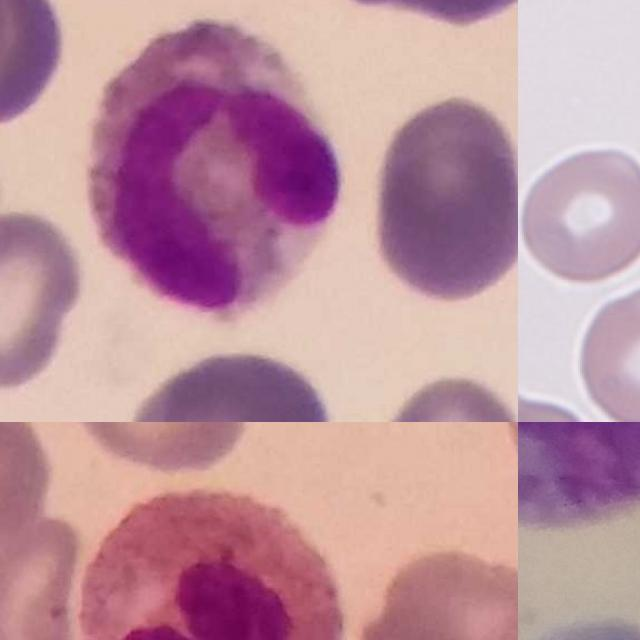Basophil: (518, 422, 640, 530)
Eosinophil: (89, 18, 341, 319), (71, 486, 346, 640)
RBC: (518, 138, 640, 289), (571, 276, 640, 422)
